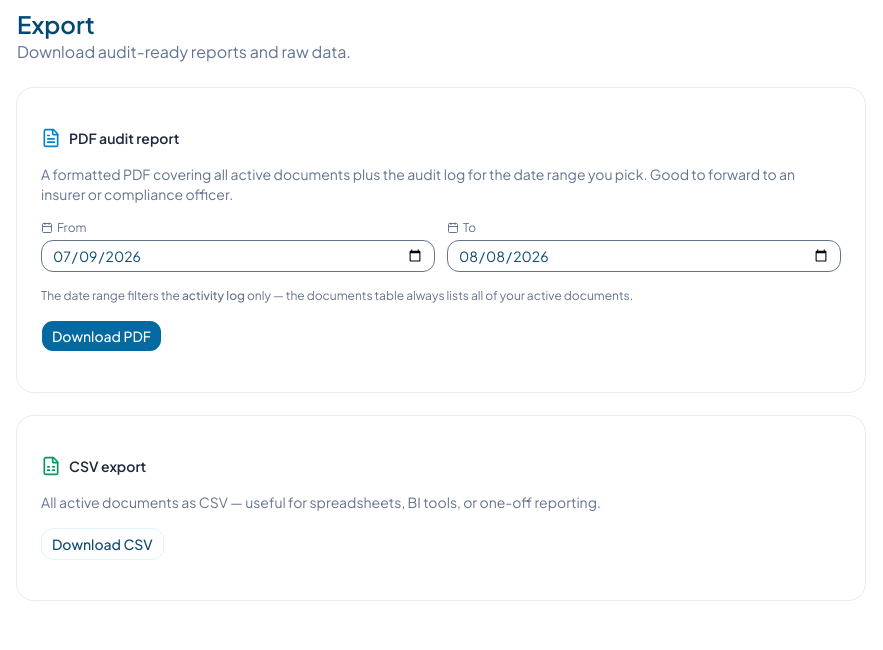
it: ExportPage — smoke (#36) › blocks an inverted date range before any request (#262)
Expected: the button "Download PDF" is shown, [41,320,162,352]
Type "2026-06-10" into the date field labelled "From".
click(238, 256); type("2026-06-10")  # box [41,240,435,272]
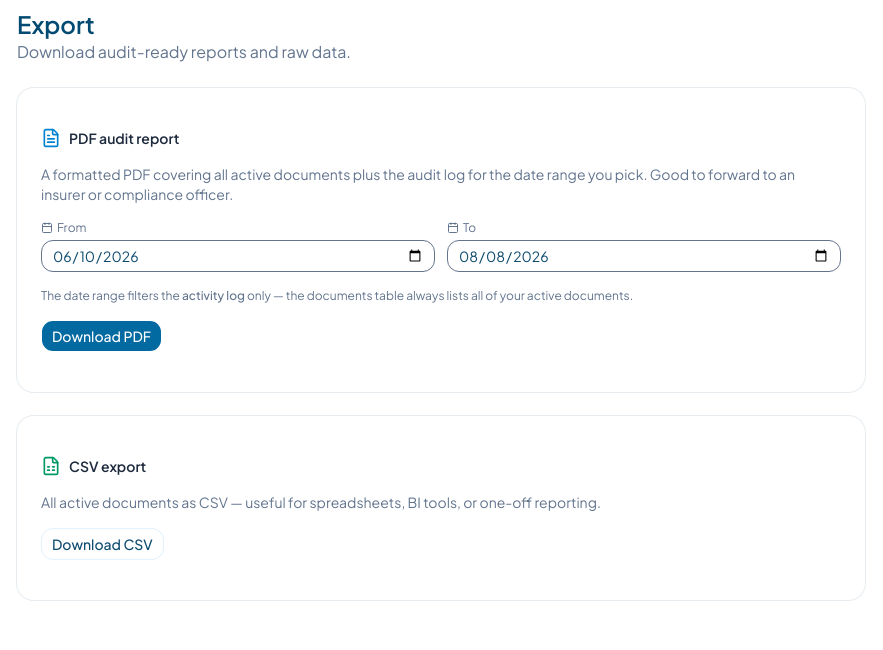
Type "2026-05-11" into the date field labelled "To".
click(644, 256); type("2026-05-11")  # box [447,240,841,272]
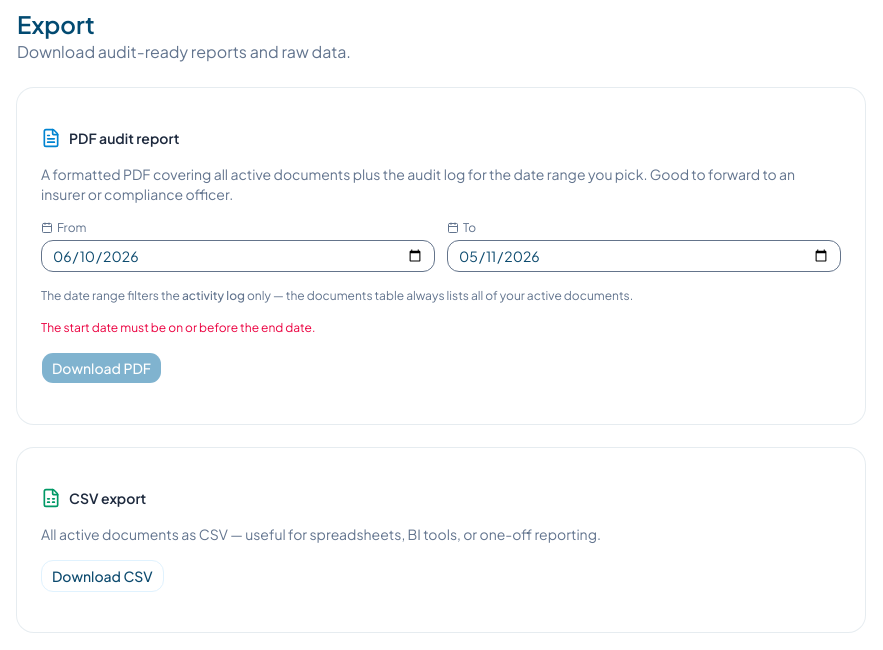
Expected: the message shows "start date must be on or before the end date", [41,320,315,335]
Expected: the button "Download PDF" is disabled, [41,352,162,384]
Note: Fixing the range clears the guard.
Type "2026-06-11" into the date field labelled "To".
click(644, 256); type("2026-06-11")  # box [447,240,841,272]
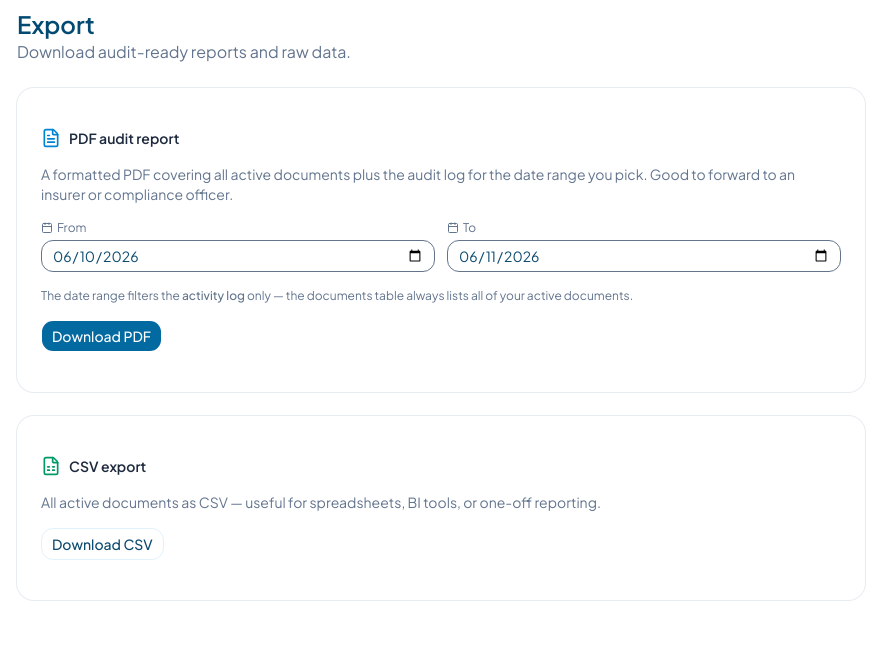
Expected: the message "The start date must be on or before the end date." is gone
Expected: the button "Download PDF" is enabled, [41,320,162,352]
